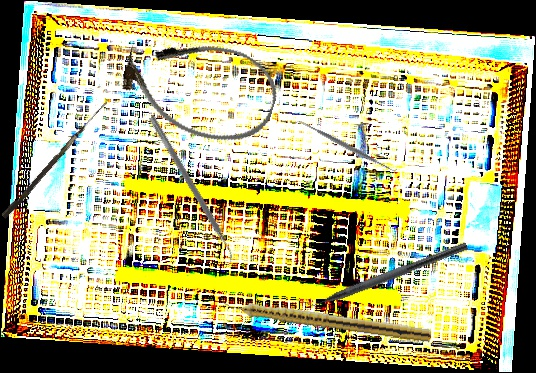Cannula: (112, 19, 287, 156)
Chopper: (295, 230, 469, 317)
Handpiece: (218, 295, 433, 343)
Hook Surgical: (1, 96, 108, 221)
Spatula Surgical: (142, 115, 240, 265), (293, 114, 399, 178)
